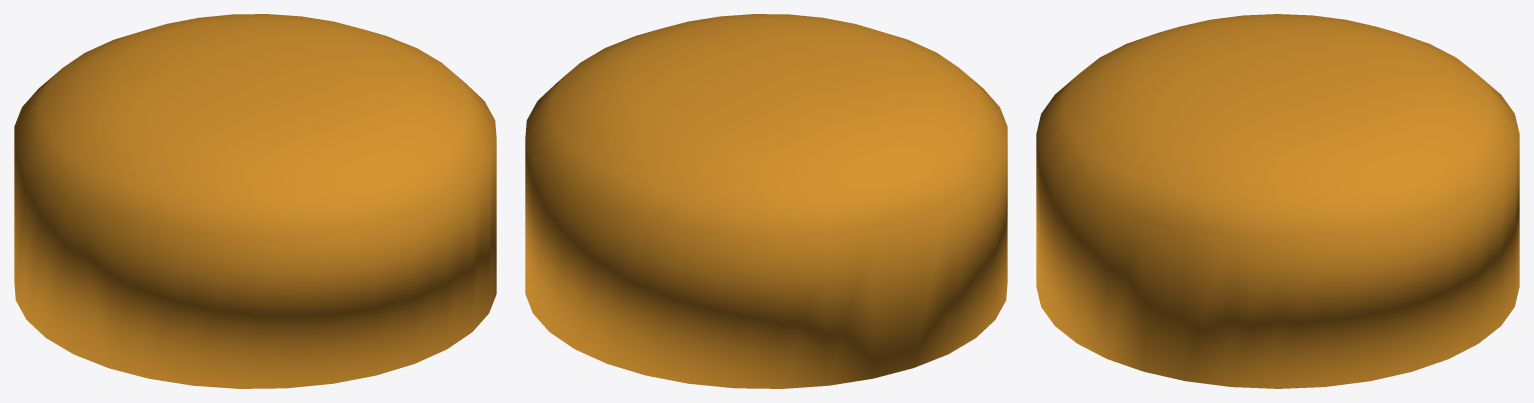
File: building.dae
3 renders of one model, left to right at view 1: azimuth 30°, elevation 25°; view 2: azimuth 150°, elevation 25°; view 3: azimuth 270°, elevation 25°, orthographic.
Visible parts, largest first — view 1: Cube_010_001; view 2: Cube_010_001; view 3: Cube_010_001.
Part boxes in pixels (x1,y1,x2,y2): Cube_010_001: (14, 14, 496, 388); Cube_010_001: (525, 14, 1007, 388); Cube_010_001: (1036, 14, 1519, 388).
Size of the model in its own units: 157 by 157 by 79.56.
